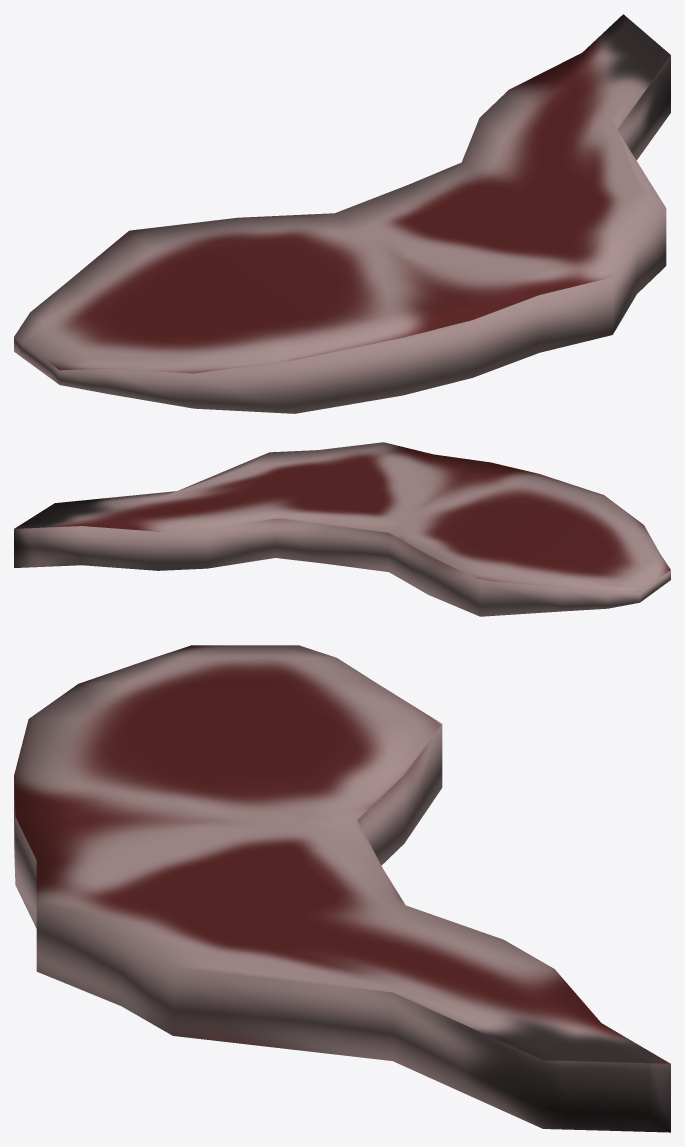
The model's file is Meat.fbx.
3 views of the same model, one above another, from view 1: azimuth 30°, elevation 25°; view 2: azimuth 150°, elevation 25°; view 3: azimuth 270°, elevation 25° (orthographic). The views are drawn at different scales.
Visible parts, largest first — view 1: Cube; view 2: Cube; view 3: Cube.
Part boxes in pixels (bbox=[...]): Cube: bbox=[14, 14, 670, 413]; Cube: bbox=[14, 442, 670, 616]; Cube: bbox=[14, 645, 670, 1132].
Bounding box in the file's own units: 54.52 × 3.93 × 34.09.
